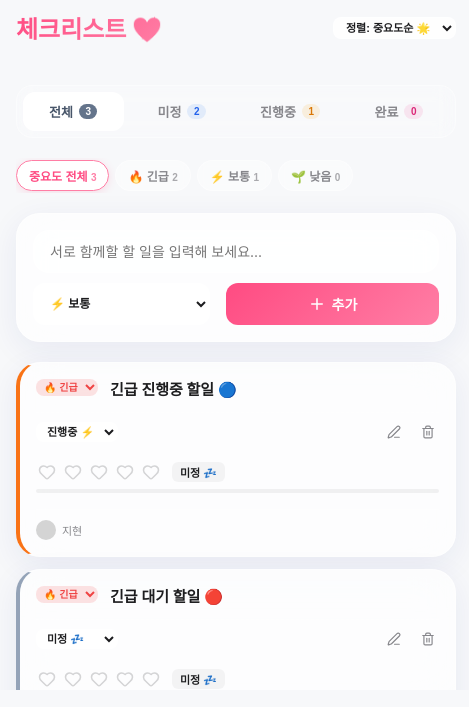
Test: Checklist Component › filters items by status and priority correctly
This screenshot has width=469, height=707.
Expected: the text "긴급 대기 할일 🔴" is shown, [110, 587, 223, 606]
Expected: the text "긴급 진행중 할일 🔵" is shown, [110, 380, 237, 399]
// 중요도 '긴급' 필터 칩 클릭
Click the button "🔥 긴급 2".
click(153, 176)  # box [115, 160, 191, 191]
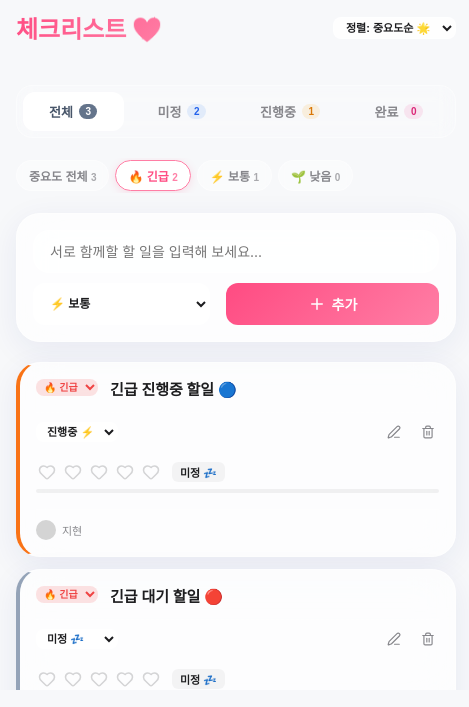
Expected: the text "긴급 대기 할일 🔴" is shown, [110, 587, 223, 606]
Expected: the text "긴급 진행중 할일 🔵" is shown, [110, 380, 237, 399]
// 탭을 '미정'으로 필터링
Click the button "미정 2".
click(182, 112)  # box [132, 92, 232, 131]
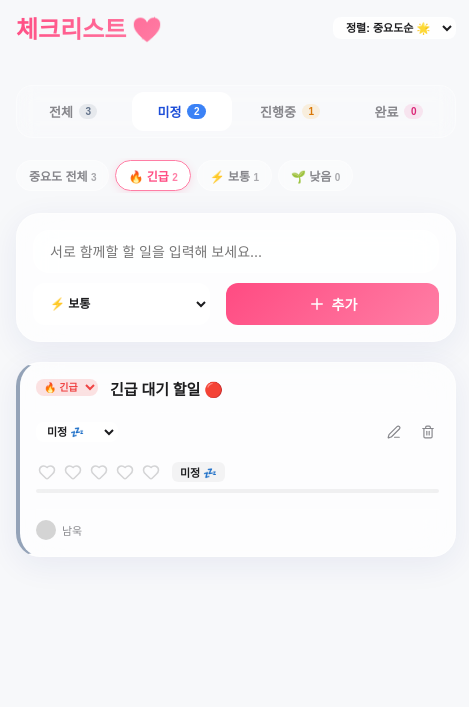
Expected: the text "긴급 대기 할일 🔴" is shown, [110, 380, 223, 399]
Now the text "긴급 진행중 할일 🔵" is gone
